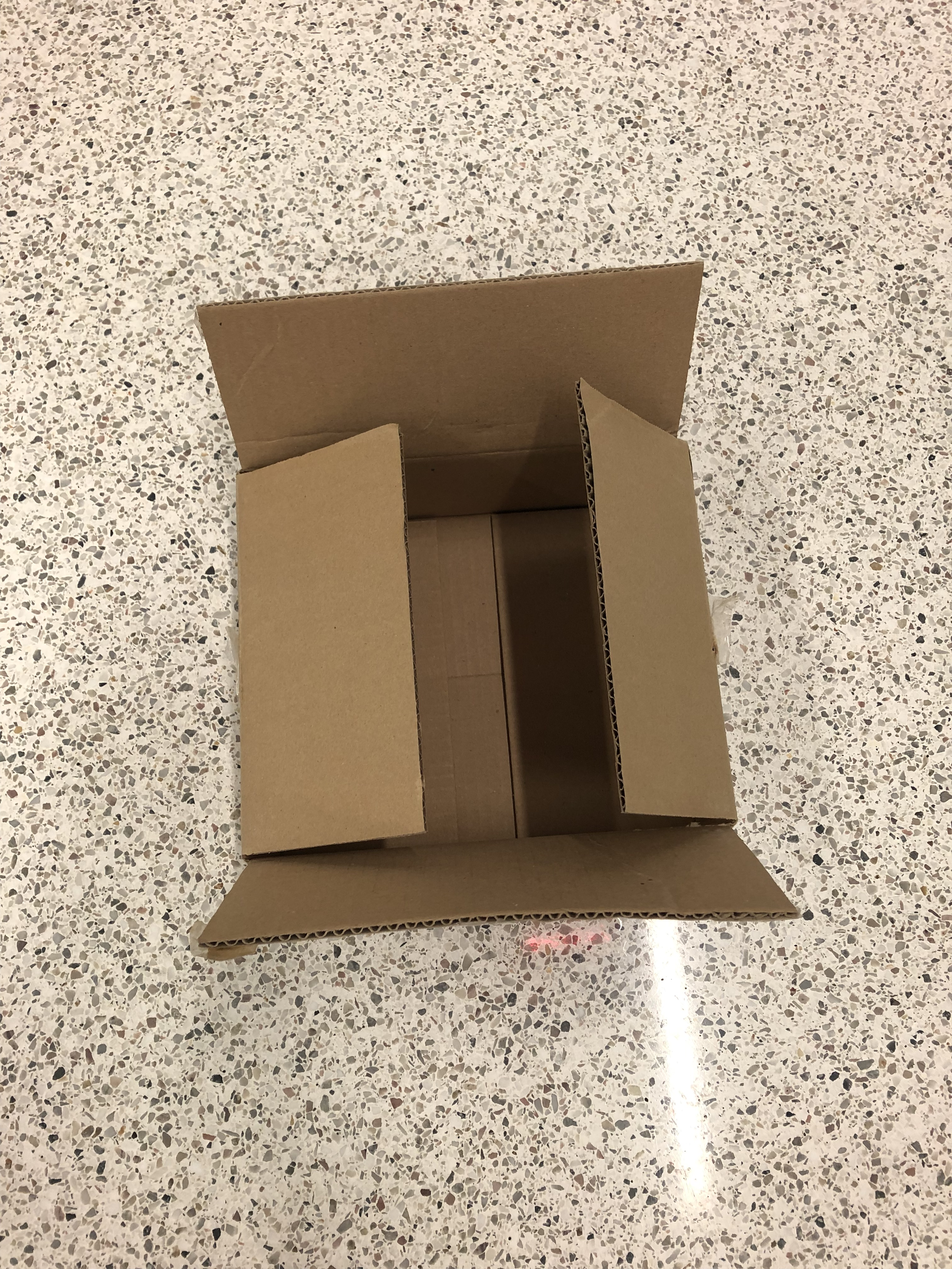box: (192, 261, 802, 951)
crushed: (197, 257, 806, 953)
